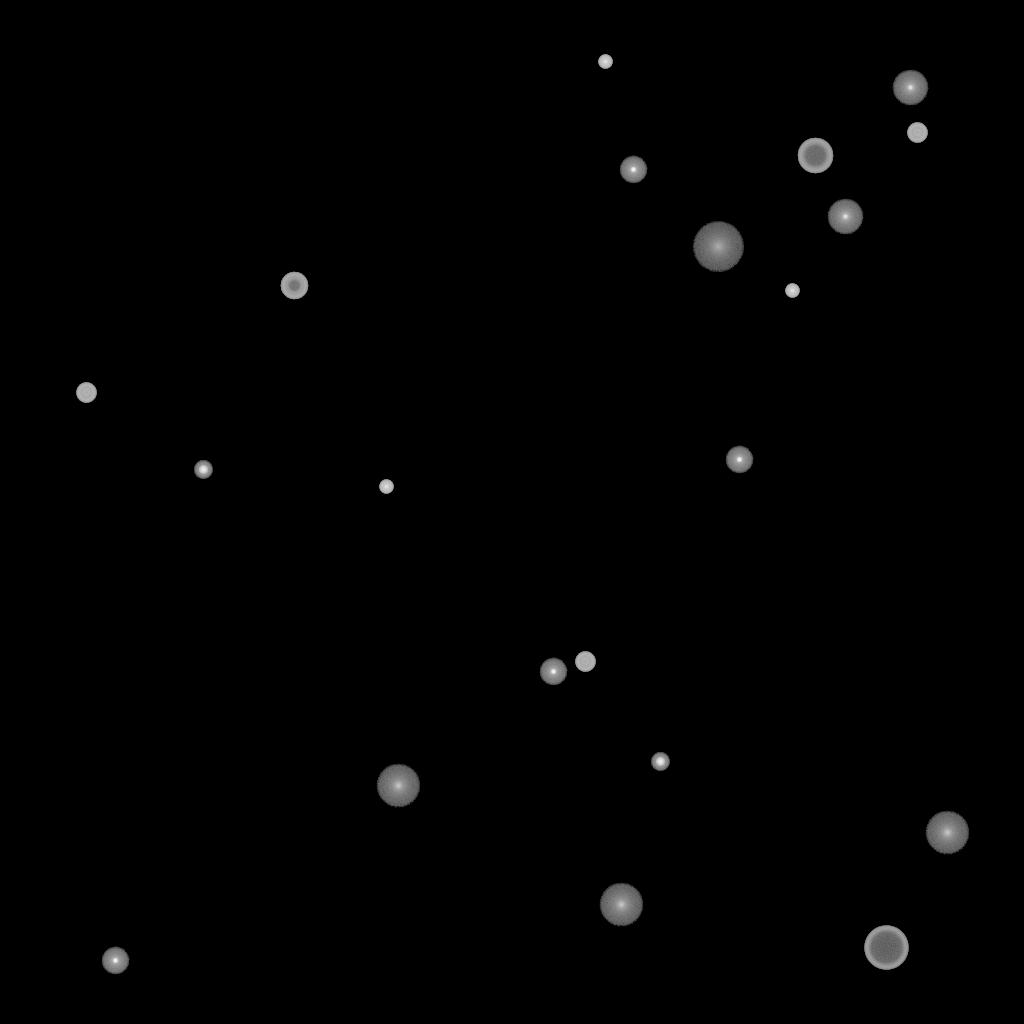depth:-10: (539, 658, 567, 686), (101, 947, 129, 975), (725, 446, 753, 474), (619, 156, 647, 184)
depth:-20: (651, 753, 669, 771), (194, 461, 212, 479)
depth:-30: (379, 480, 393, 494), (785, 284, 799, 298), (598, 55, 612, 69)
depth:-40: (907, 123, 927, 143), (575, 652, 595, 672), (76, 383, 96, 403)
depth:-50: (280, 272, 308, 300)
depth:-60: (797, 138, 833, 174)
depth:-70: (864, 926, 908, 970)
depth:0: (827, 199, 863, 235), (892, 70, 928, 106)
depth:10: (599, 883, 643, 927), (925, 811, 969, 855), (376, 764, 420, 808)
depth:20: (692, 222, 744, 272)
